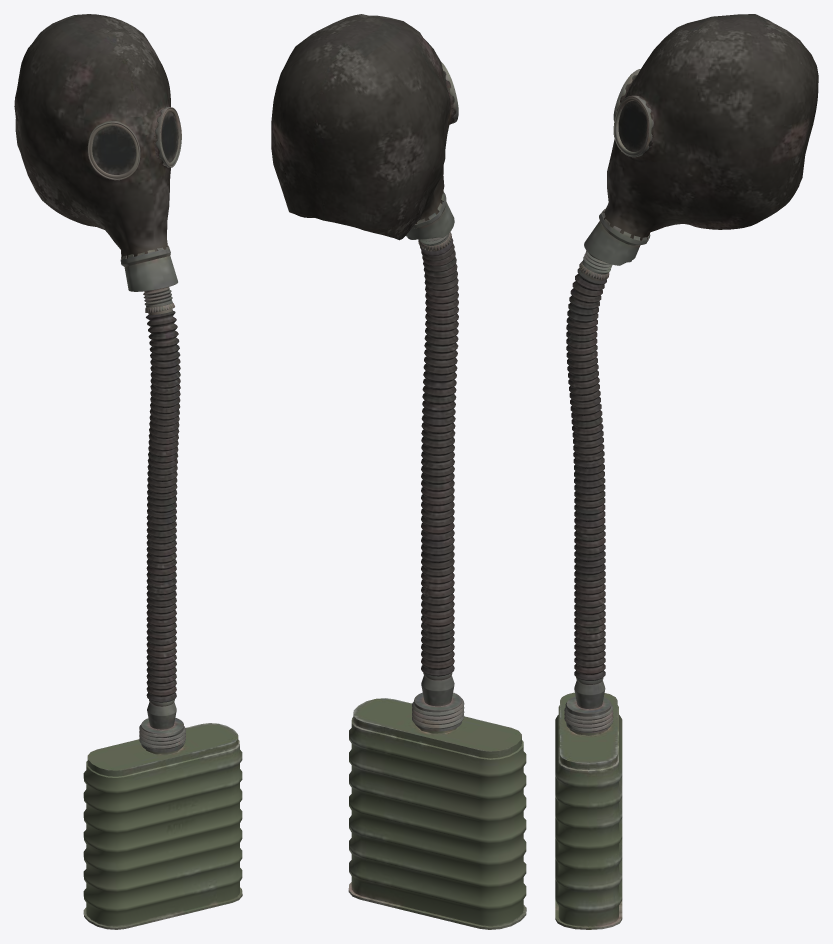
Rendered from old_gas_mask.gltf.
3 views of the same model, side by side, from view 1: azimuth 30°, elevation 25°; view 2: azimuth 150°, elevation 25°; view 3: azimuth 270°, elevation 25° (orthographic). The views are drawn at different scales.
Parts seen in each view (by area): view 1: old_gas_mask; view 2: old_gas_mask; view 3: old_gas_mask.
Part boxes in pixels (x1,y1,x2,y2): old_gas_mask: [14, 14, 242, 929]; old_gas_mask: [271, 14, 526, 929]; old_gas_mask: [555, 14, 818, 929].
Bounding box in the file's own units: 0.2105 × 1.13 × 0.3087.
1 material, 1 textured.
